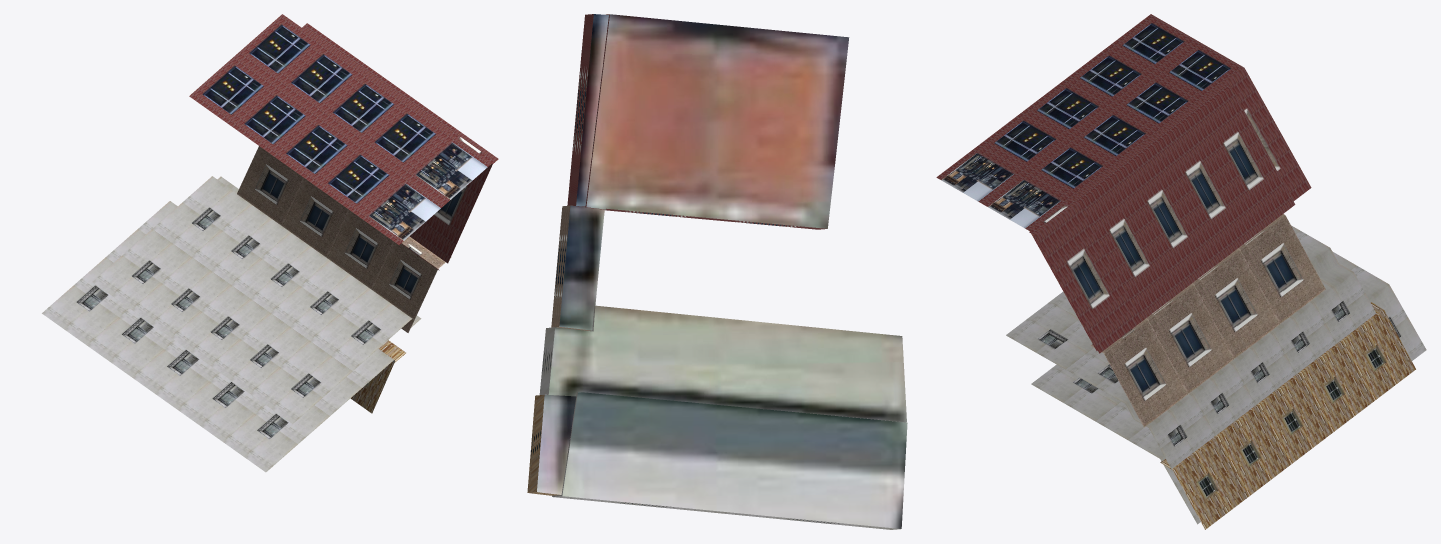
The picture shows the model from 3 angles, left to right: view 1: azimuth 30°, elevation 25°; view 2: azimuth 150°, elevation 25°; view 3: azimuth 270°, elevation 25°; orthographic projection. The views are drawn at different scales.
Size of the model in its own units: 25.72 by 28.62 by 28.45.
20 materials, 20 textured.
